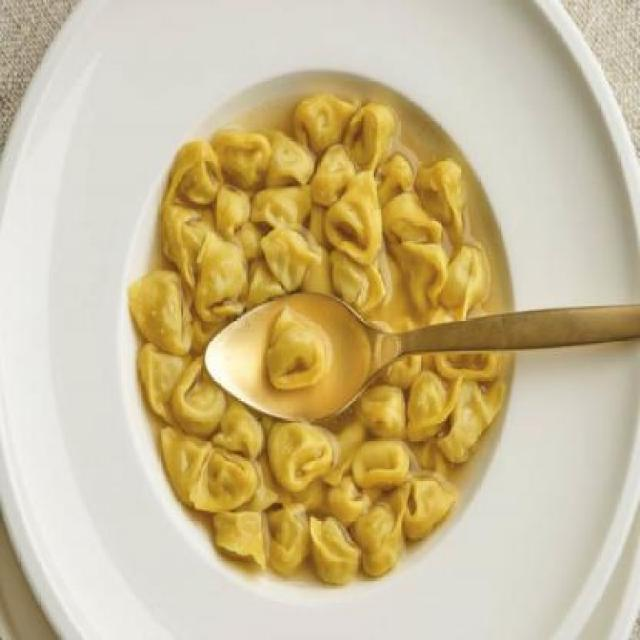Tortellini in broth: (148, 102, 498, 546)
